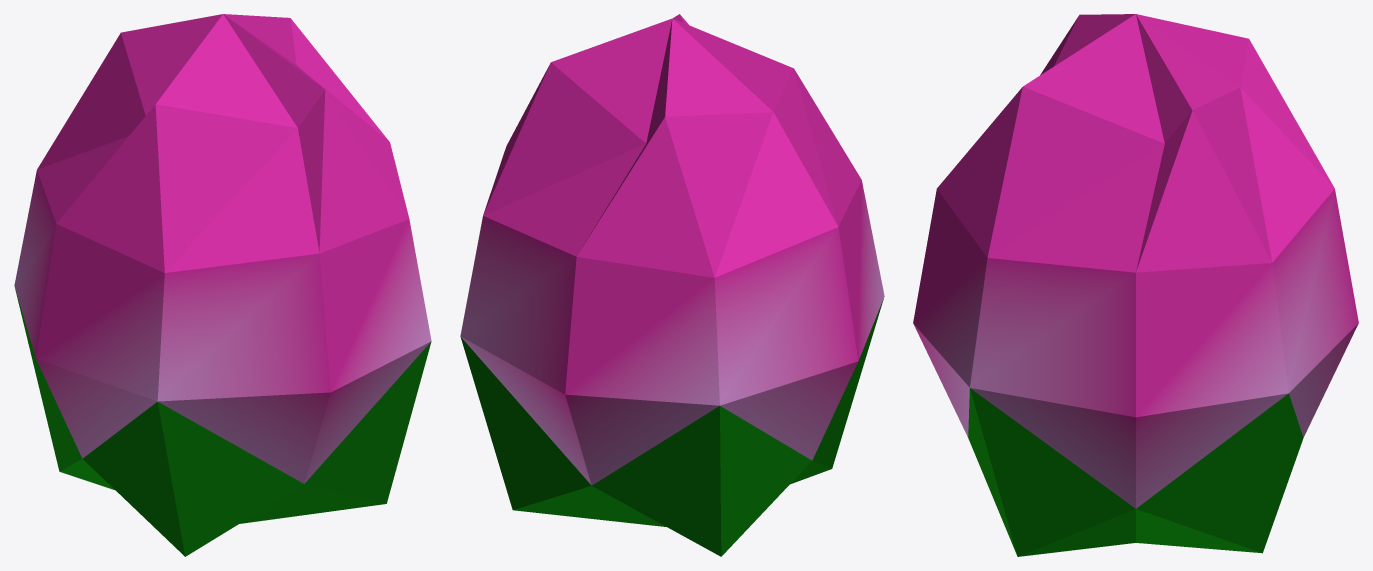
Rendered from bud_red.dae.
3 views of the same model, side by side, from view 1: azimuth 30°, elevation 25°; view 2: azimuth 150°, elevation 25°; view 3: azimuth 270°, elevation 25° (orthographic). The views are drawn at different scales.
Parts seen in each view (by area): view 1: m0; view 2: m0; view 3: m0.
Boxes of the visible parts, bbox=[...] form: m0: bbox=[14, 14, 431, 556]; m0: bbox=[460, 14, 884, 556]; m0: bbox=[913, 14, 1358, 556].
Bounding box in the file's own units: 4.86 × 6.37 × 4.86.
